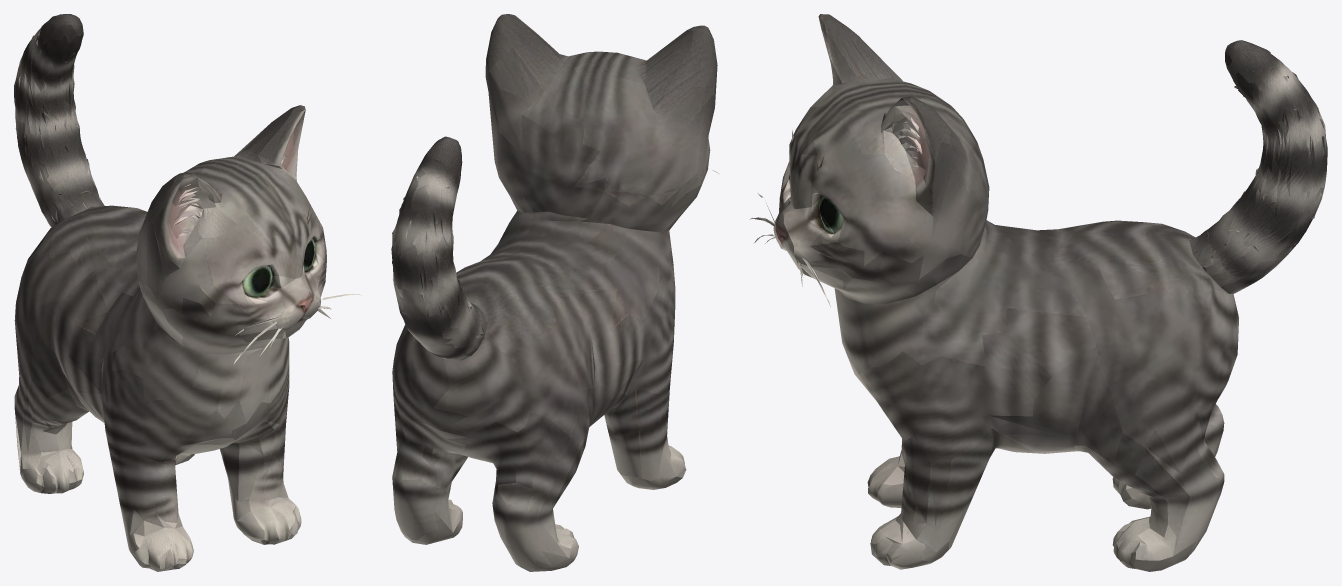
The model's file is pet_cat.glb.
The picture shows the model from 3 angles, left to right: view 1: azimuth 30°, elevation 25°; view 2: azimuth 150°, elevation 25°; view 3: azimuth 270°, elevation 25°; orthographic projection. The views are drawn at different scales.
Visible parts, largest first — view 1: Mesh_0; view 2: Mesh_0; view 3: Mesh_0.
Boxes of the visible parts, x1,y1,x2,y2 form: Mesh_0: (14,14,361,571); Mesh_0: (391,14,718,571); Mesh_0: (750,14,1327,571).
Size of the model in its own units: 0.1497 by 0.3 by 0.3238.
1 material, 1 textured.
